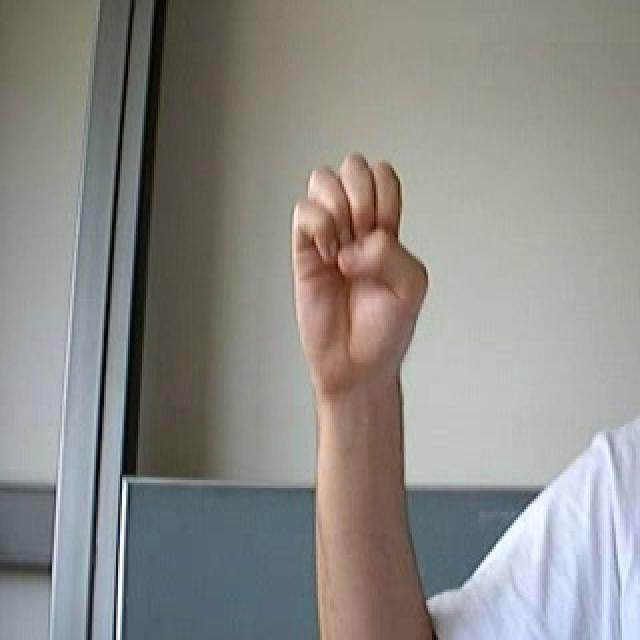E: (287, 151, 439, 390)
